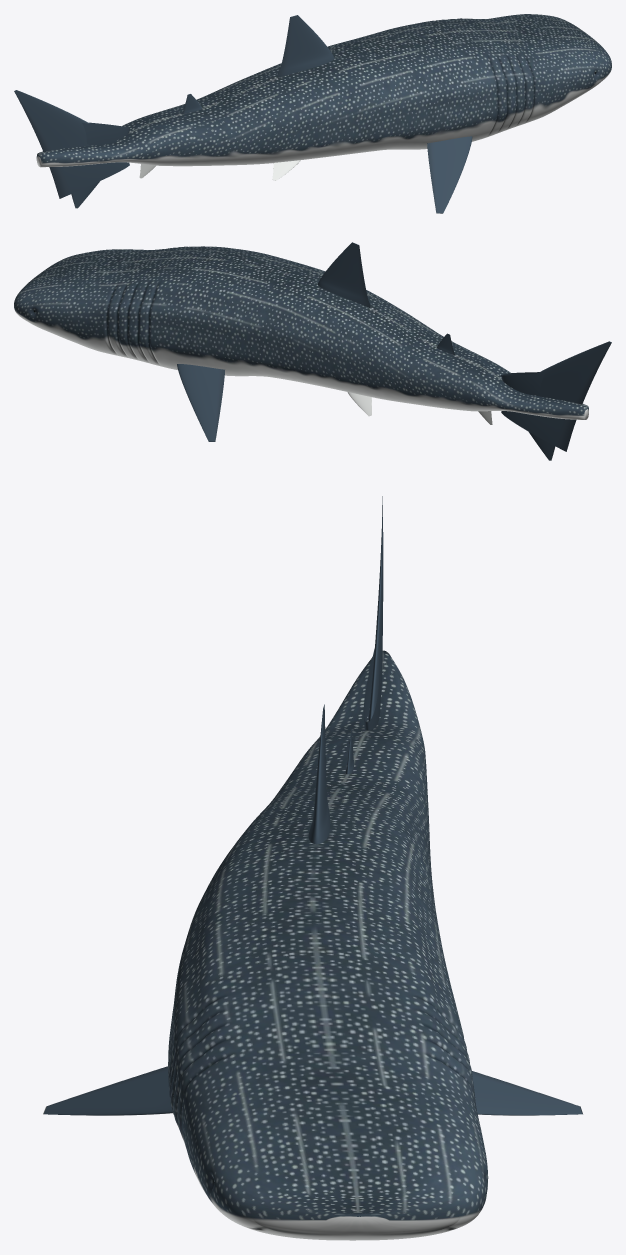
Rendered from whale_shark.glb.
The picture shows the model from 3 angles, top to bottom: view 1: azimuth 30°, elevation 25°; view 2: azimuth 150°, elevation 25°; view 3: azimuth 270°, elevation 25°; orthographic projection. The views are drawn at different scales.
Parts seen in each view (by area): view 1: WhaleShark_Body, WhaleShark_Fins; view 2: WhaleShark_Body, WhaleShark_Fins; view 3: WhaleShark_Body, WhaleShark_Fins.
Boxes of the visible parts, <box> form: WhaleShark_Body: <box>36,14,611,167</box>; WhaleShark_Fins: <box>14,15,472,213</box>; WhaleShark_Body: <box>14,246,588,419</box>; WhaleShark_Fins: <box>177,242,611,460</box>; WhaleShark_Body: <box>168,650,488,1240</box>; WhaleShark_Fins: <box>43,496,582,1115</box>.
Bounding box in the file's own units: 10 × 2.78 × 4.1.
Materials: 3 (1 with a texture image).
